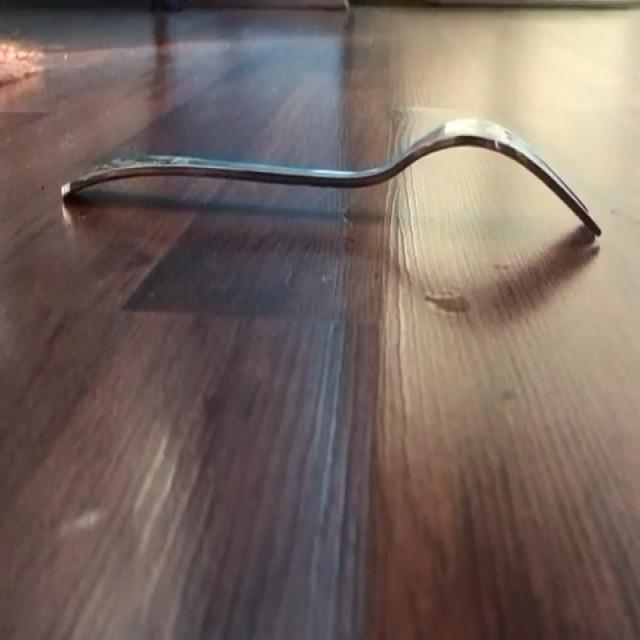spoon: (61, 119, 601, 235)
